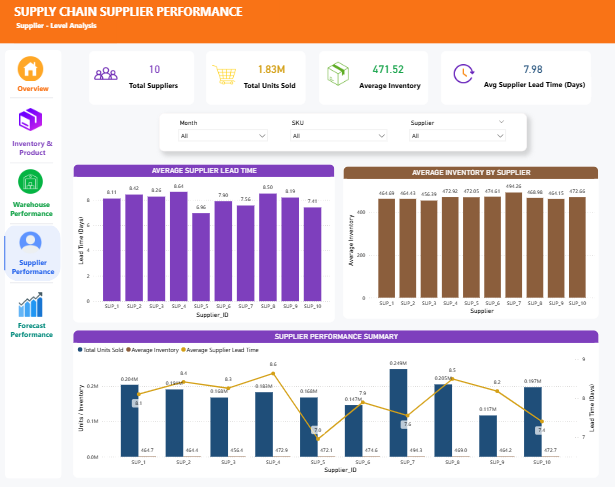

The page's visual inventory and layout, read from the dashboard file:
{"tool":"powerbi","page":{"name":"Supplier Performance","canvas":[1400,1115],"ordinal":4},"visuals":[{"type":"shape","box":[0,0,1400,103.1],"z":0},{"type":"textbox","box":[28.3,7.5,606.6,51.9],"z":1000},{"type":"textbox","box":[31.6,45.2,231.8,57.2],"z":2000},{"type":"shape","box":[10.6,118.2,128.8,974.3],"z":3000},{"type":"image","box":[27.7,126.2,84.6,67.7],"z":4000},{"type":"textbox","box":[20,187.7,109.2,32.3],"z":5000},{"type":"shape","box":[23.1,210.8,98.5,30.8],"z":6000},{"type":"shape","box":[23.1,360,98.5,30.8],"z":7000},{"type":"shape","box":[23.1,632.3,98.5,30.8],"z":8000},{"type":"image","box":[27.7,243.1,83.1,66.2],"z":9000},{"type":"textbox","box":[16.9,313.8,115.4,60],"z":10000},{"type":"shape","box":[10,513.8,129.2,130],"z":11000},{"type":"image","box":[27.7,384.6,83.1,66.2],"z":12000},{"type":"textbox","box":[13.8,452.3,115.4,64.6],"z":13000},{"type":"image","box":[27.7,523.1,83.1,66.2],"z":14000},{"type":"textbox","box":[15.4,584.6,118.5,61.5],"z":15000},{"type":"textbox","box":[13.8,726.2,116.9,58.5],"z":16000},{"type":"image","box":[27,663.1,83.1,66.2],"z":17000},{"type":"shape","box":[201.6,119.4,238.8,122.5],"z":18000},{"type":"shape","box":[468.2,119.4,226.4,122.5],"z":19000},{"type":"shape","box":[724,119.4,248.1,122.5],"z":20000},{"type":"shape","box":[1003.1,119.4,341.1,122.5],"z":21000},{"type":"textbox","box":[271.3,181.4,156.6,38.8],"z":22000},{"type":"textbox","box":[544.2,181.4,139.5,38.8],"z":23000},{"type":"textbox","box":[802.3,181.6,168.2,38.4],"z":24000},{"type":"textbox","box":[1089.9,179.8,252.7,45],"z":25000},{"type":"card","fields":{"Values":["FactInventory.Total Units Sold"]},"box":[561.2,138,110.1,43.4],"z":26000},{"type":"card","fields":{"Values":["FactInventory.Average Inventory"]},"box":[826.4,138,110.1,43.4],"z":27000},{"type":"card","fields":{"Values":["FactInventory.Average Supplier Lead Time"]},"box":[1156.6,138,108.5,43.4],"z":28000},{"type":"card","fields":{"Values":["FactInventory.Total Suppliers"]},"box":[294.6,138,110.1,43.4],"z":29000},{"type":"image","box":[210,134,63,75],"z":30000},{"type":"image","box":[477.5,136.4,63.6,76],"z":31000},{"type":"image","box":[736.4,133.3,63.6,76],"z":32000},{"type":"image","box":[1021.7,133.3,63.6,76],"z":33000},{"type":"shape","box":[361.2,260.5,835.7,86.8],"z":34000},{"type":"slicer","fields":{"Values":["DimDate.MonthName"]},"box":[395.3,269.8,223.3,68.2],"z":35000},{"type":"slicer","fields":{"Values":["DimProduct.SKU_ID"]},"box":[649.6,269.8,240.3,68.2],"z":36000},{"type":"slicer","fields":{"Values":["DimSupplier.Supplier_ID"]},"box":[920.9,269.8,238.8,68.2],"z":37000},{"type":"clusteredColumnChart","title":"AVERAGE SUPPLIER LEAD TIME ","fields":{"Y":["FactInventory.Average Supplier Lead Time"],"Category":["DimSupplier.Supplier_ID"]},"box":[165.9,378.3,595.3,359.7],"z":38000},{"type":"clusteredColumnChart","title":"AVERAGE INVENTORY BY SUPPLIER","fields":{"Category":["DimSupplier.Supplier_ID"],"Y":["FactInventory.Average Inventory"]},"box":[779.8,382.9,581.4,347.3],"z":39000},{"type":"lineClusteredColumnComboChart","title":"SUPPLIER PERFORMANCE SUMMARY","fields":{"Category":["DimSupplier.Supplier_ID"],"Y":["FactInventory.Total Units Sold","FactInventory.Average Inventory"],"Y2":["FactInventory.Average Supplier Lead Time"]},"box":[165.9,755,1195.3,336.4],"z":40000},{"type":"shape","box":[23.1,498.5,98.5,30.8],"z":41000},{"type":"shape","box":[2.4,540,17.1,78.2],"z":42000}]}

Visuals, with their boxes on the page's 1400x1115 design canvas (x1, y1, x2, y2). These are canvas units, not pixel positions in the 615x487 screenshot, which may show the page scaled, cropped or inside an application window:
shape: bbox(0, 0, 1400, 103)
textbox: bbox(28, 8, 635, 59)
textbox: bbox(32, 45, 263, 102)
shape: bbox(11, 118, 139, 1092)
image: bbox(28, 126, 112, 194)
textbox: bbox(20, 188, 129, 220)
shape: bbox(23, 211, 122, 242)
shape: bbox(23, 360, 122, 391)
shape: bbox(23, 632, 122, 663)
image: bbox(28, 243, 111, 309)
textbox: bbox(17, 314, 132, 374)
shape: bbox(10, 514, 139, 644)
image: bbox(28, 385, 111, 451)
textbox: bbox(14, 452, 129, 517)
image: bbox(28, 523, 111, 589)
textbox: bbox(15, 585, 134, 646)
textbox: bbox(14, 726, 131, 785)
image: bbox(27, 663, 110, 729)
shape: bbox(202, 119, 440, 242)
shape: bbox(468, 119, 695, 242)
shape: bbox(724, 119, 972, 242)
shape: bbox(1003, 119, 1344, 242)
textbox: bbox(271, 181, 428, 220)
textbox: bbox(544, 181, 684, 220)
textbox: bbox(802, 182, 970, 220)
textbox: bbox(1090, 180, 1343, 225)
card - FactInventory.Total Units Sold: bbox(561, 138, 671, 181)
card - FactInventory.Average Inventory: bbox(826, 138, 936, 181)
card - FactInventory.Average Supplier Lead Time: bbox(1157, 138, 1265, 181)
card - FactInventory.Total Suppliers: bbox(295, 138, 405, 181)
image: bbox(210, 134, 273, 209)
image: bbox(478, 136, 541, 212)
image: bbox(736, 133, 800, 209)
image: bbox(1022, 133, 1085, 209)
shape: bbox(361, 260, 1197, 347)
slicer - DimDate.MonthName: bbox(395, 270, 619, 338)
slicer - DimProduct.SKU_ID: bbox(650, 270, 890, 338)
slicer - DimSupplier.Supplier_ID: bbox(921, 270, 1160, 338)
"AVERAGE SUPPLIER LEAD TIME " clusteredColumnChart: bbox(166, 378, 761, 738)
"AVERAGE INVENTORY BY SUPPLIER" clusteredColumnChart: bbox(780, 383, 1361, 730)
"SUPPLIER PERFORMANCE SUMMARY" lineClusteredColumnComboChart: bbox(166, 755, 1361, 1091)
shape: bbox(23, 498, 122, 529)
shape: bbox(2, 540, 20, 618)
